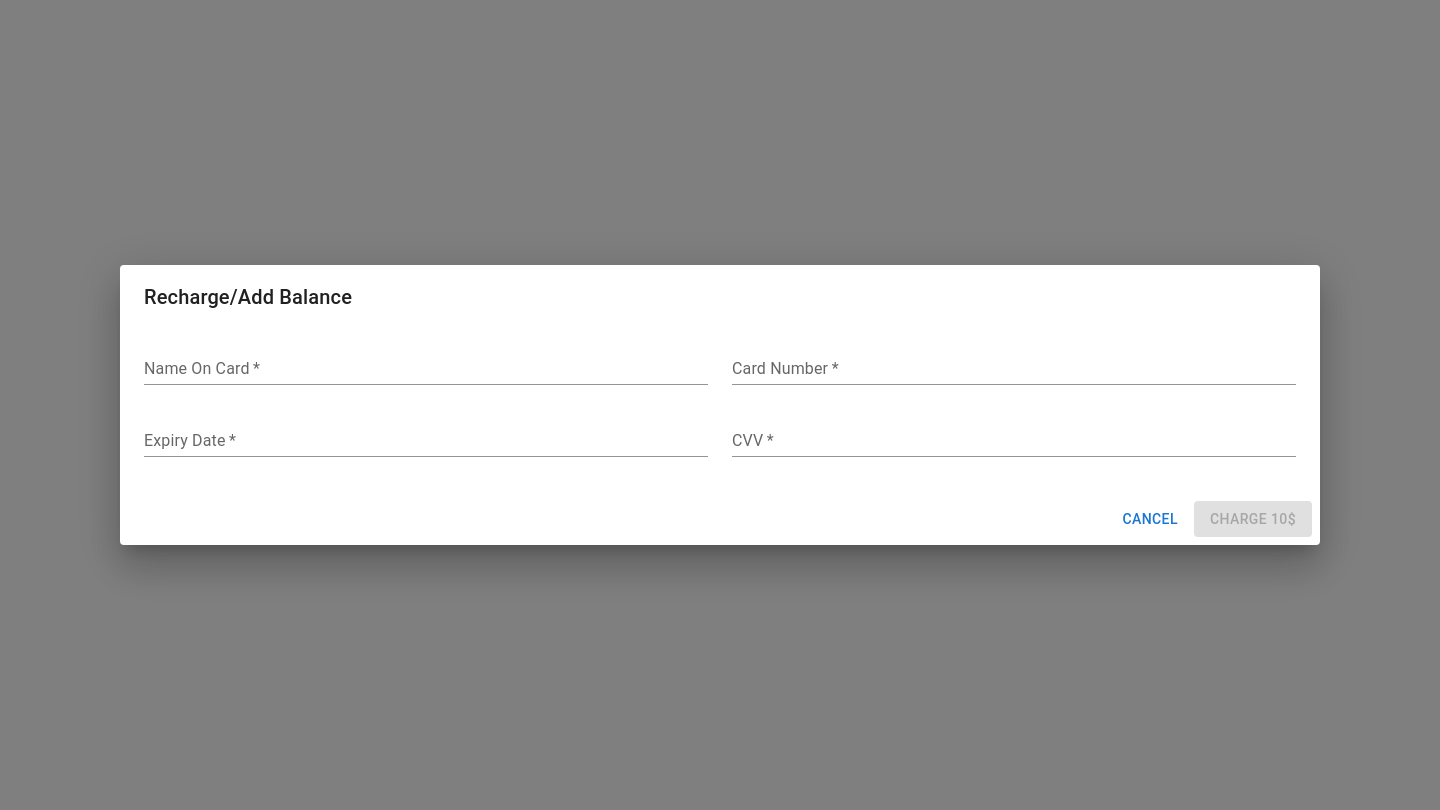
Test: Recharge Dialog › render Recharge Button is abled after fill form with valid values
The image size is (1440, 810).
Type "Test Suite" into the field labelled "Name On Card *". click: (426, 369)
box: [144,353,708,385]
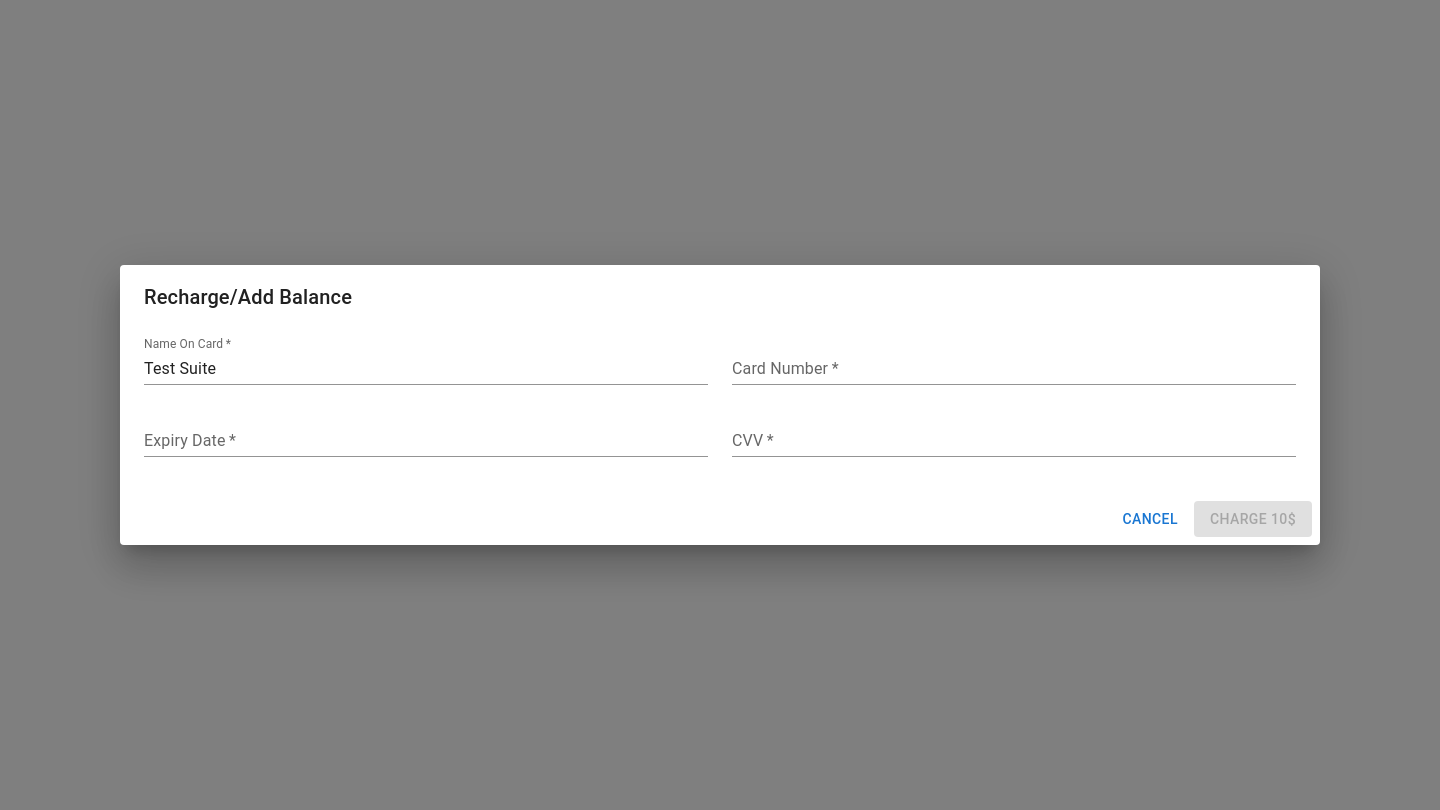
Type "5212123412873246" into the field labelled "Card Number *". click: (1014, 369)
box: [732,353,1296,385]
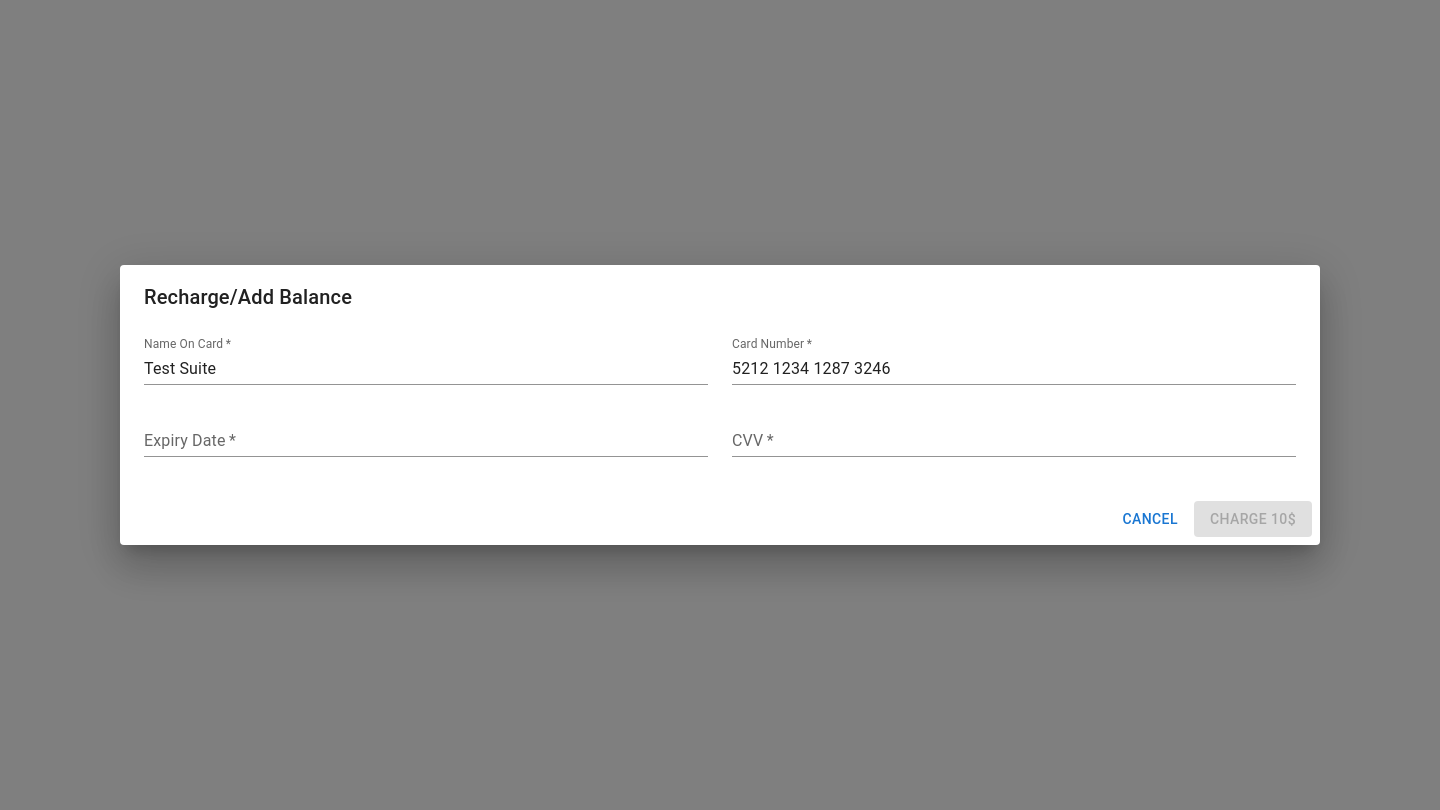
Type "122022" into the field labelled "Expiry Date *". click: (426, 441)
box: [144,425,708,457]
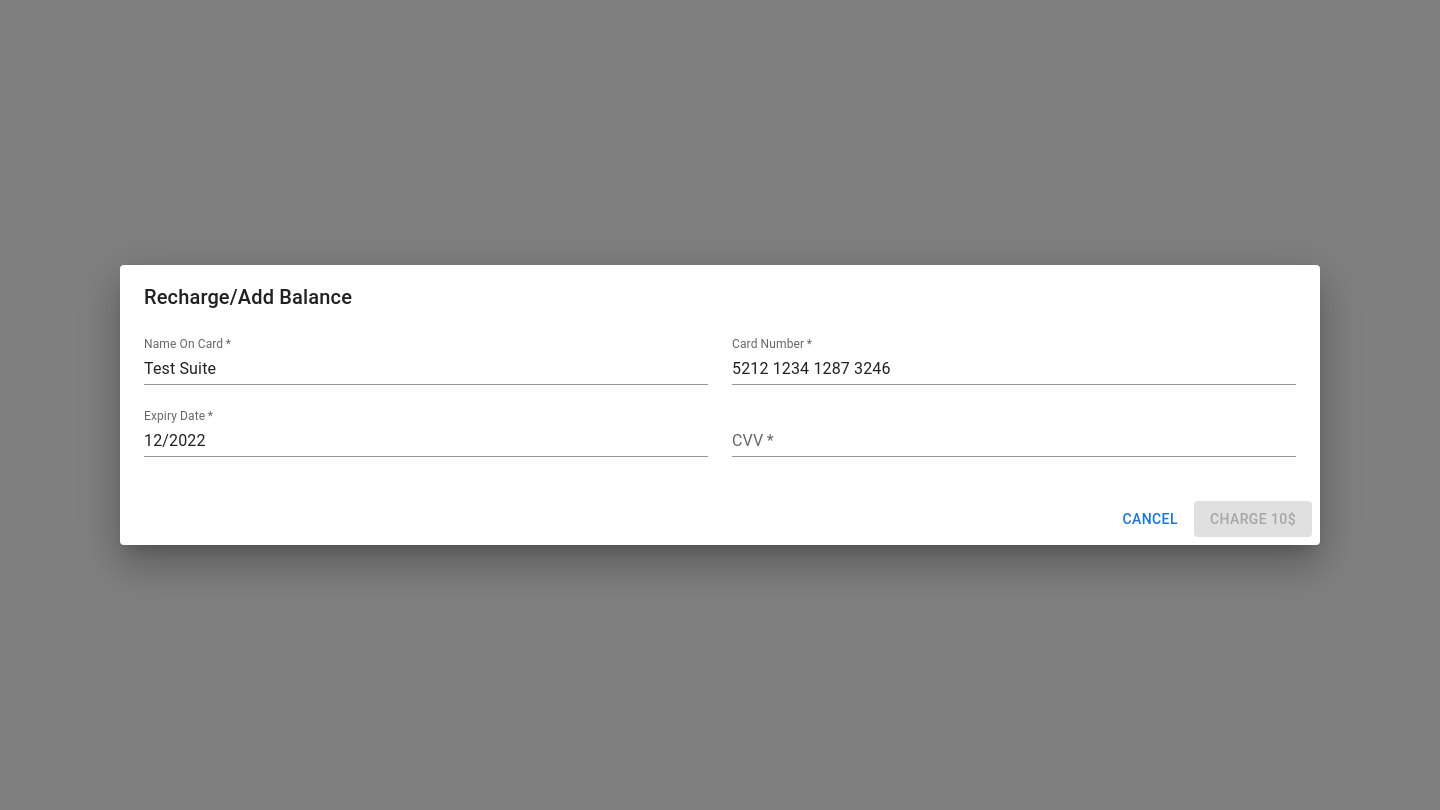
Type "222" into the field labelled "CVV *". click: (1014, 441)
box: [732,425,1296,457]
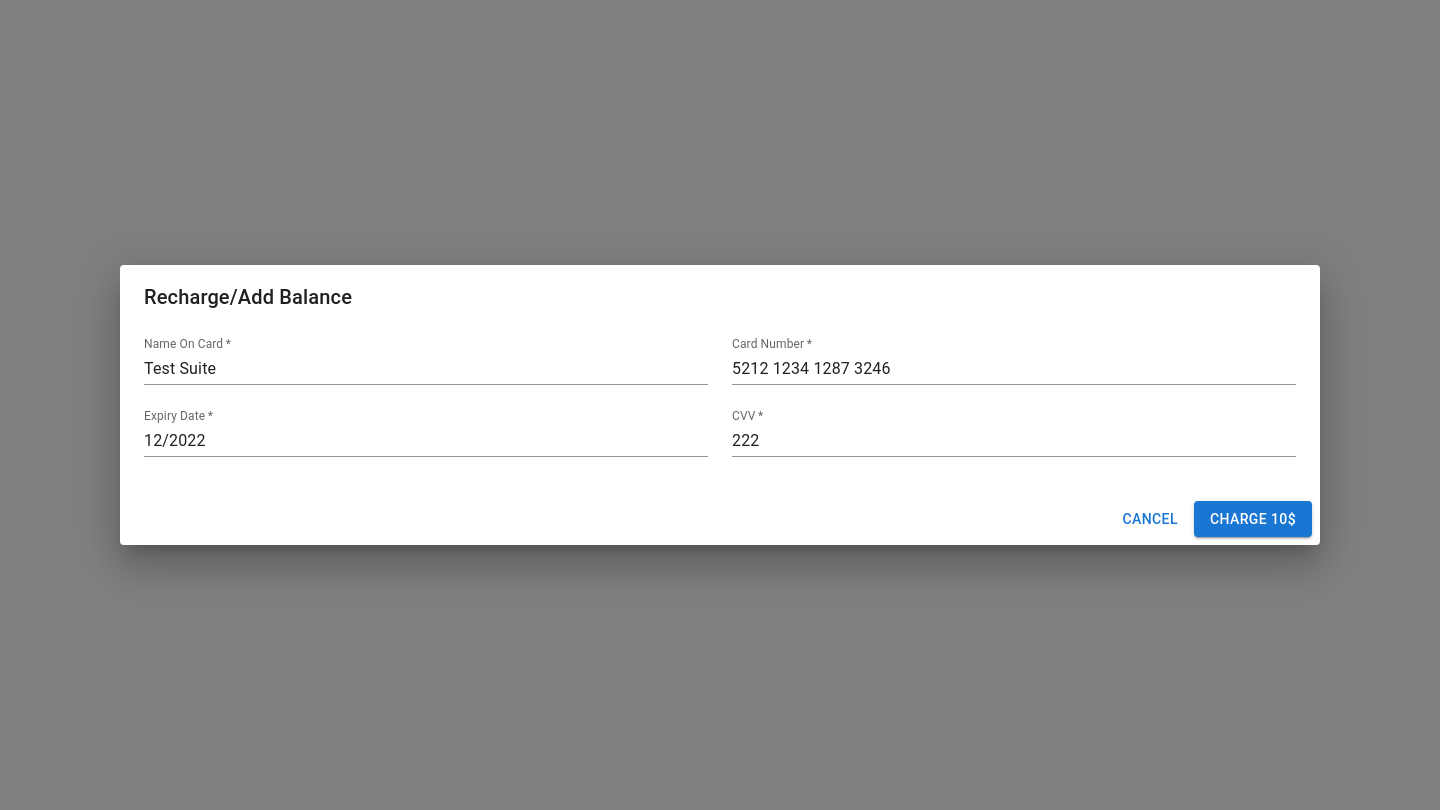
Result: the button with test id "SubmitRecharge" is enabled at [1194,501,1312,537]
